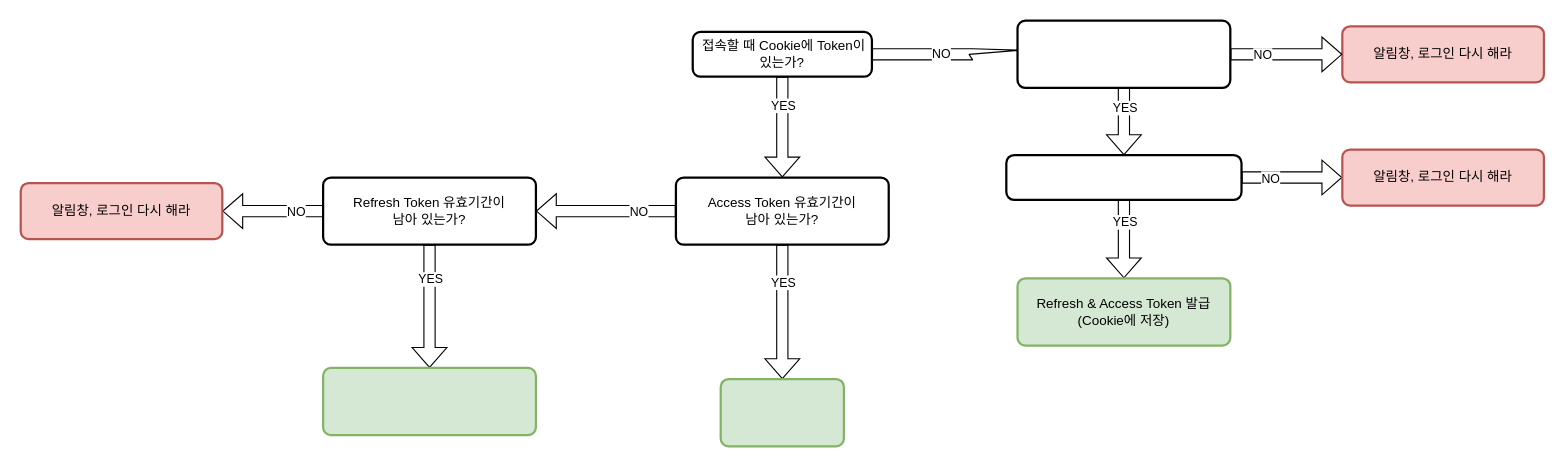
This 1564x466 diagram has some shape labels left out. The box of each missing label's shape, as (x1, y1, x2, y2) in pixels:
Refresh & Access Token 재발급 (Cookie에 저장, expired token Blacklist 처리): (321, 366, 536, 436)
로그인 시도, ID가 DB에 존재하는가?: (1016, 19, 1231, 88)
올바른 비밀번호인가?: (1005, 153, 1242, 200)
접속 허가: (719, 377, 844, 447)
